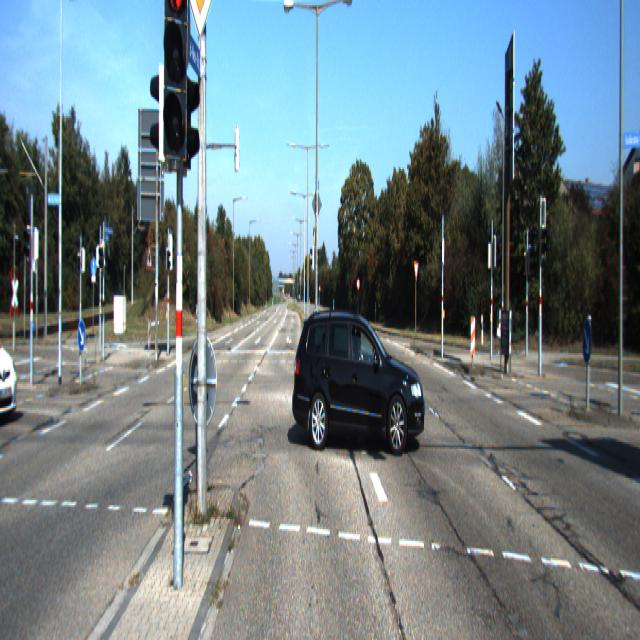Car: (292, 304, 426, 456), (0, 304, 23, 426)
